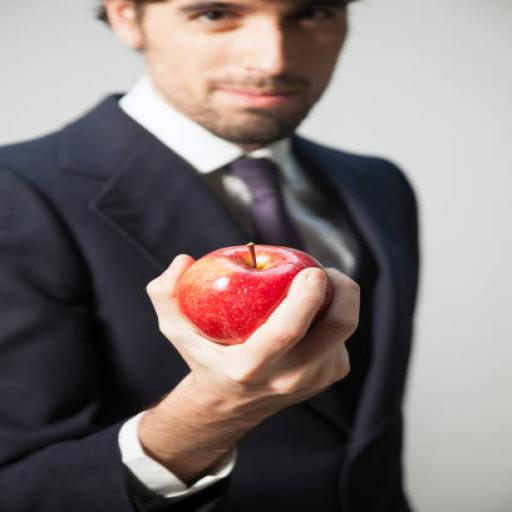apple: (176, 244, 322, 345)
